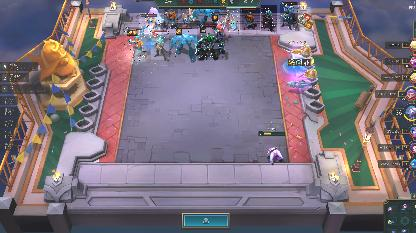1_graves: (151, 30, 169, 60), (261, 5, 277, 31)
1_seraphine: (180, 8, 196, 26)
1_sohm: (139, 13, 161, 45)
1_zeri: (240, 8, 260, 30)
2_kaisa: (280, 2, 298, 30)
2_malphite: (197, 24, 223, 60)
2_taliyah: (220, 8, 242, 32)
2_zac: (170, 26, 198, 62), (196, 8, 226, 26)
2_zeri: (124, 26, 146, 62), (164, 9, 178, 29)
